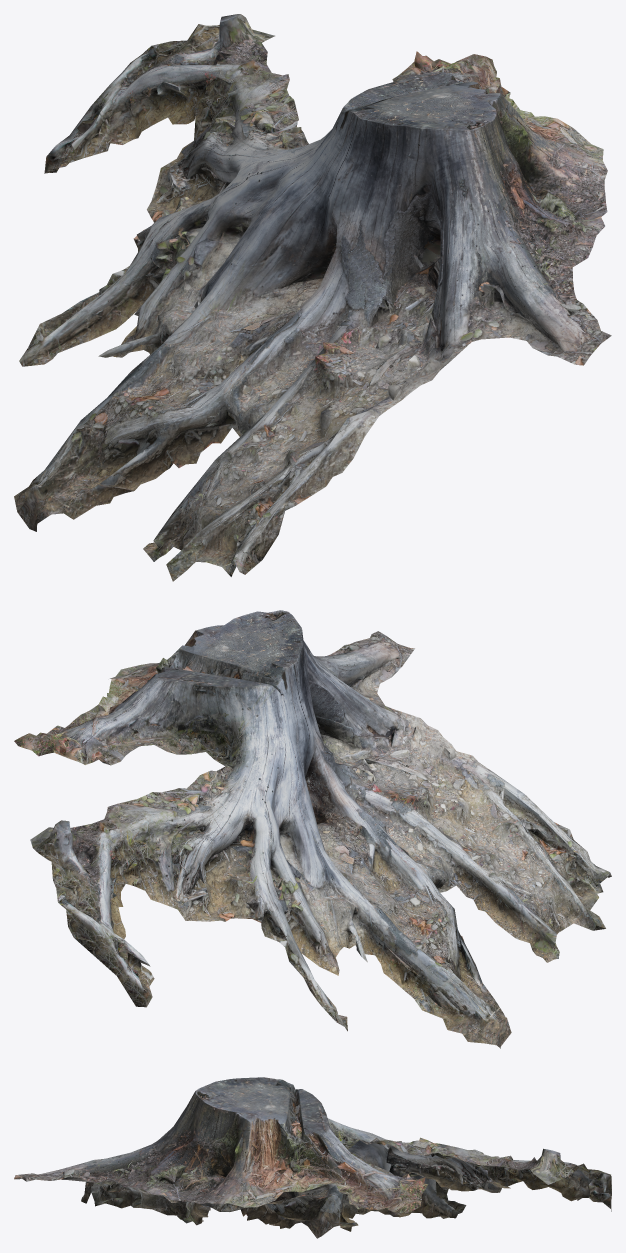
File: sm_TreeStump_02_01.fbx
The picture shows the model from 3 angles, top to bottom: view 1: azimuth 30°, elevation 25°; view 2: azimuth 150°, elevation 25°; view 3: azimuth 270°, elevation 25°; orthographic projection. The views are drawn at different scales.
Visible parts, largest first — view 1: sm_TreeStump_02_01_LOD0; view 2: sm_TreeStump_02_01_LOD0; view 3: sm_TreeStump_02_01_LOD0.
Part boxes in pixels (x1=…): sm_TreeStump_02_01_LOD0: x1=14, y1=14, x2=611, y2=581; sm_TreeStump_02_01_LOD0: x1=14, y1=610, x2=611, y2=1048; sm_TreeStump_02_01_LOD0: x1=14, y1=1077, x2=611, y2=1238.
Bounding box in the file's own units: 141 × 199 × 97.11.
